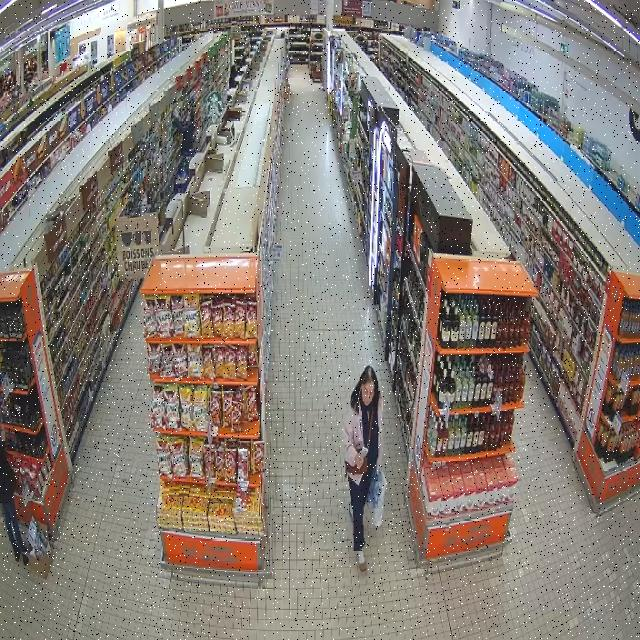bags: (367, 468, 387, 527), (345, 457, 368, 475)
hands: (355, 453, 365, 468)
person: (344, 366, 382, 572), (0, 444, 29, 565)
